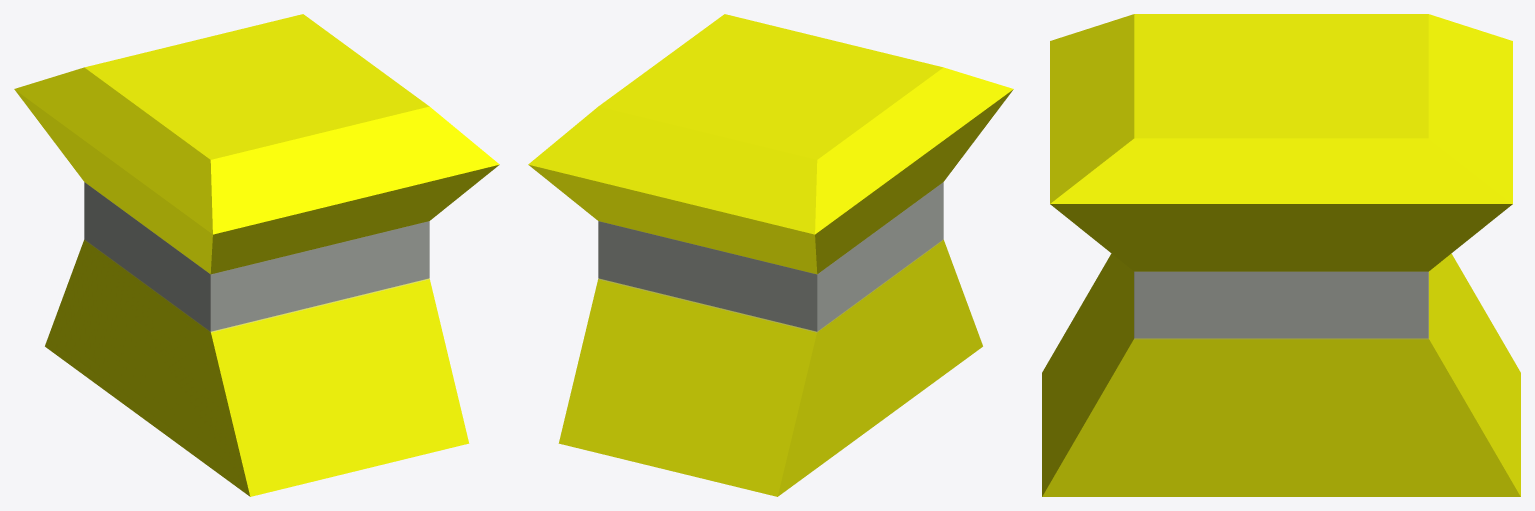
Rendered from podium.gltf.
The picture shows the model from 3 angles, left to right: view 1: azimuth 30°, elevation 25°; view 2: azimuth 150°, elevation 25°; view 3: azimuth 270°, elevation 25°; orthographic projection. The views are drawn at different scales.
Visible parts, largest first — view 1: Cube; view 2: Cube; view 3: Cube.
Part boxes in pixels (box(x1,y1,x2,y2)): Cube: box(14, 14, 499, 496); Cube: box(528, 14, 1013, 496); Cube: box(1042, 14, 1520, 496).
Bounding box in the file's own units: 2.62 × 2.69 × 3.25.
Materials: 1 (1 with a texture image).
